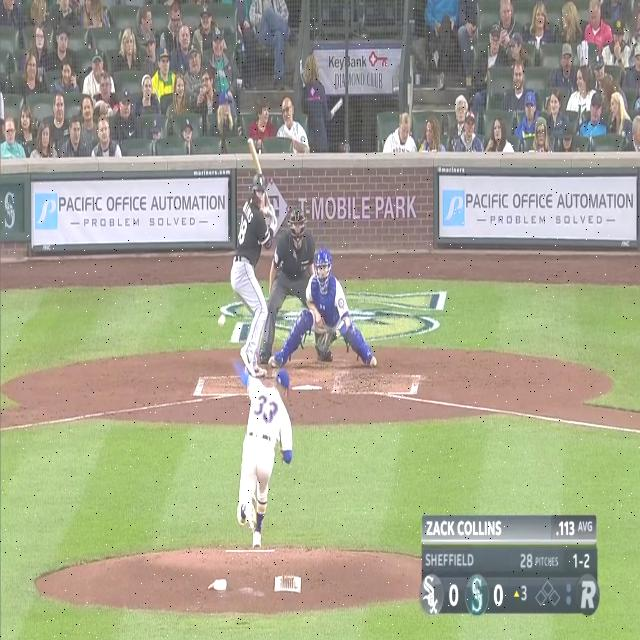baseball: (216, 314, 228, 328)
